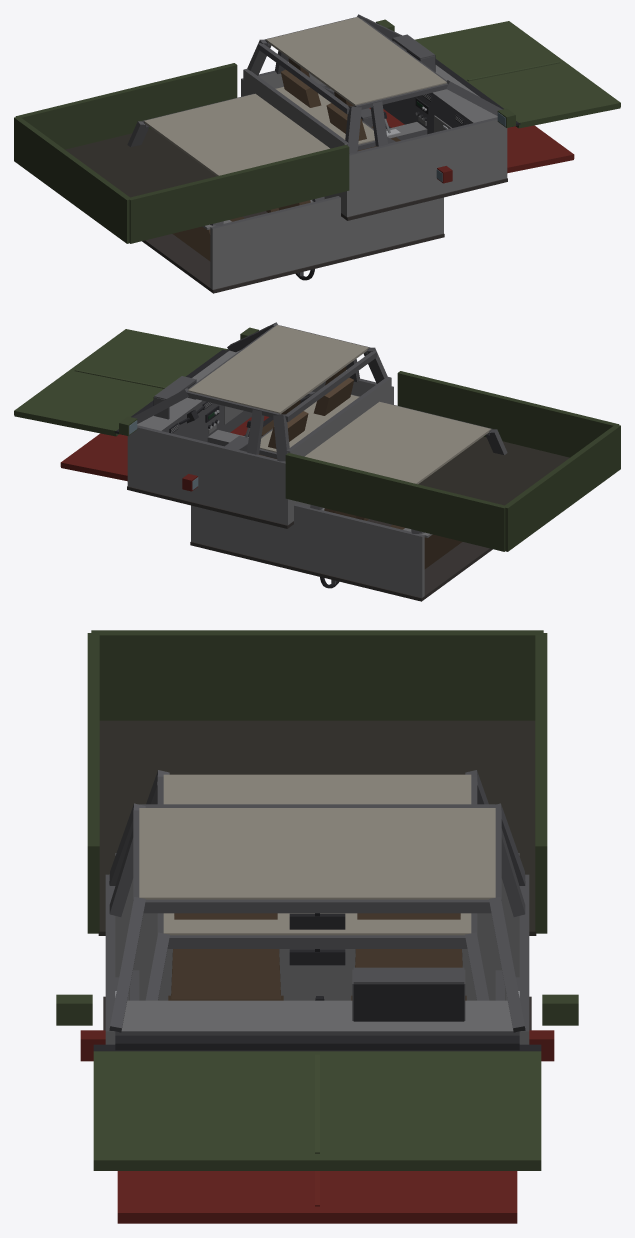
File: cabins.glb
3 views of the same model, one above another, from view 1: azimuth 30°, elevation 25°; view 2: azimuth 150°, elevation 25°; view 3: azimuth 270°, elevation 25° (orthographic). The views are drawn at different scales.
Visible parts, largest first — view 1: cabin_truck, cabin; view 2: cabin_truck, cabin; view 3: cabin_truck, cabin.
Part boxes in pixels (box(x1,y1,x2,y2)): cabin_truck: box(14, 14, 620, 243); cabin: box(127, 84, 574, 293); cabin_truck: box(14, 322, 620, 551); cabin: box(60, 392, 507, 601); cabin_truck: box(56, 630, 578, 1170); cabin: box(80, 770, 554, 1223).
Bounding box in the file's own units: 4.75 × 1.88 × 2.17.
